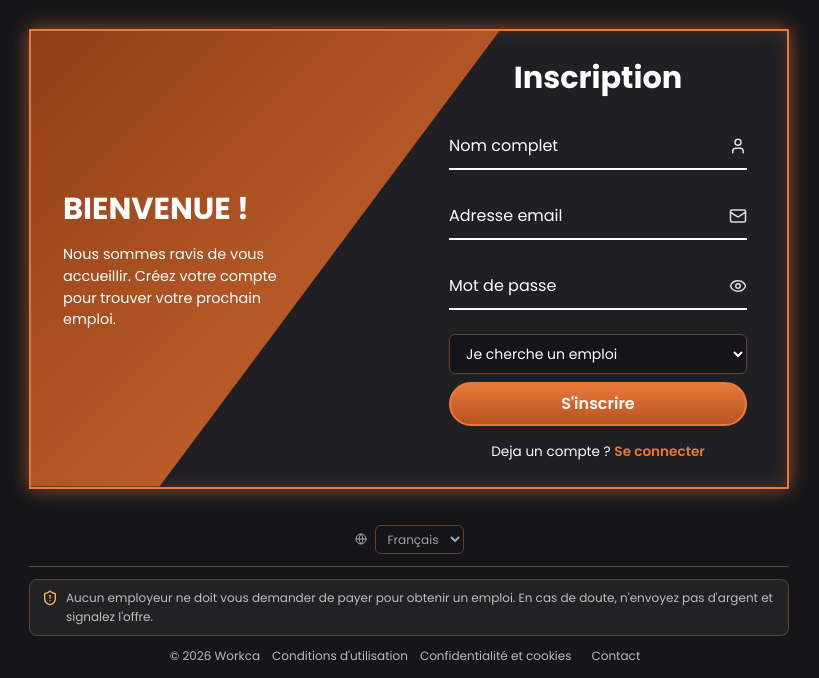
Scenario: AuthPage › n'invente pas de compte local quand l'inscription Supabase est indisponible
The image size is (819, 678).
Check: the heading "Inscription" is shown, box [514,56,682,98]
Type "Entreprise test" into the field named "username" next to "Nom complet" at (598, 146), box [449,124,747,168]
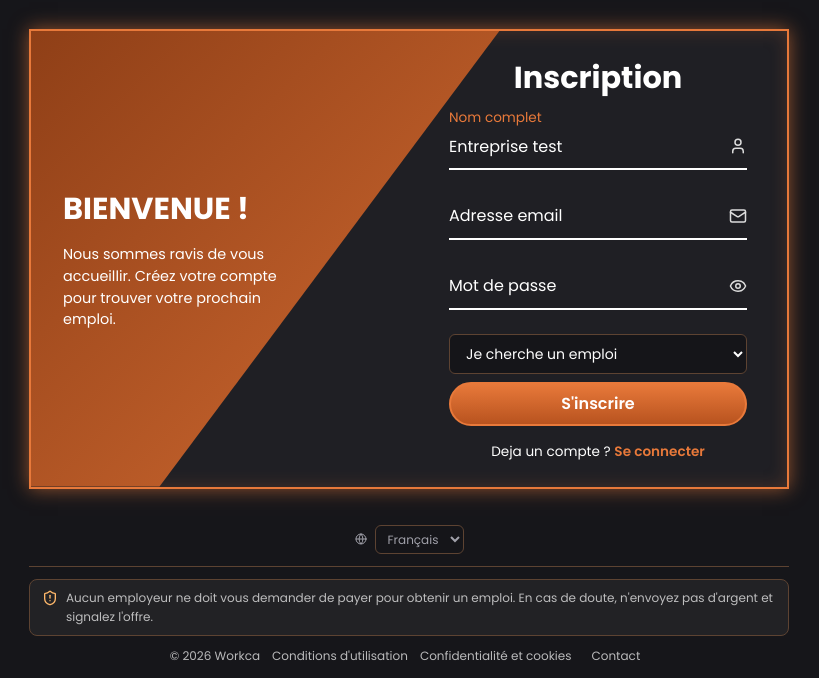
Type "entreprise@example.com" into the field named "email" next to "Adresse email" at (598, 216), box [449,194,747,238]
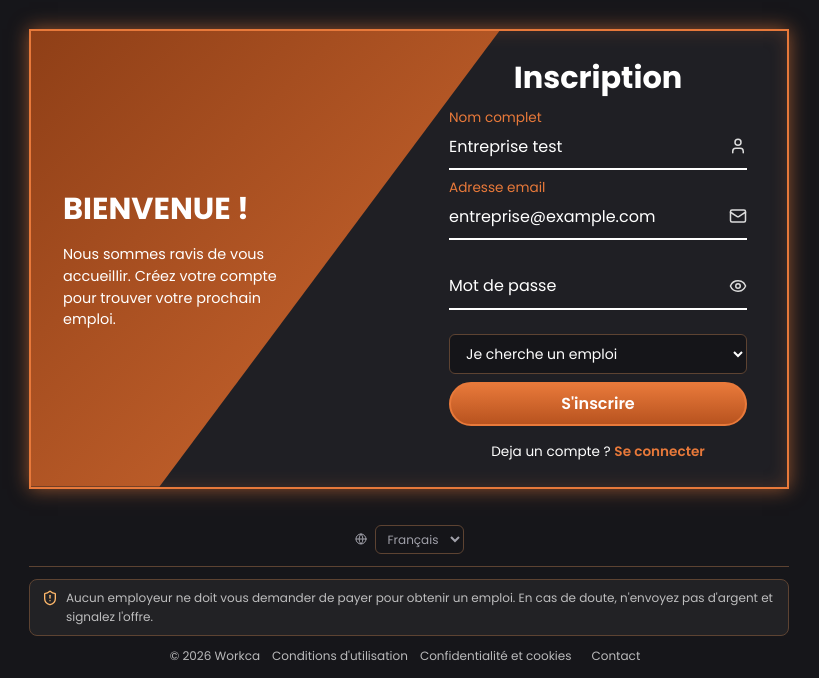
Type "mot-de-passe-test" into the password field named "password" at (598, 286), box [449,264,747,308]
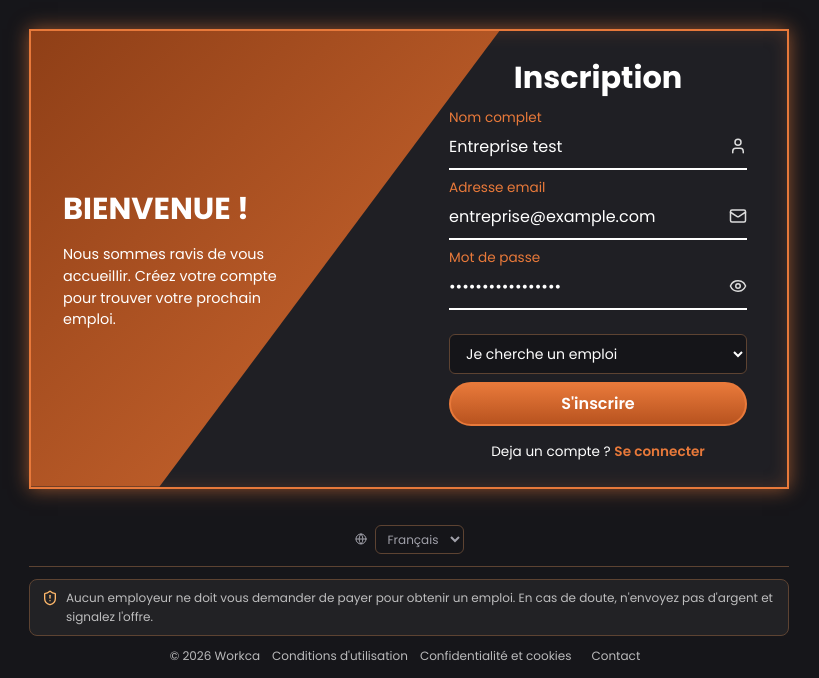
Select "Je souhaite publier des offres" in the dropdown named "role" below "Mot de passe" at (598, 354), box [449,334,747,374]
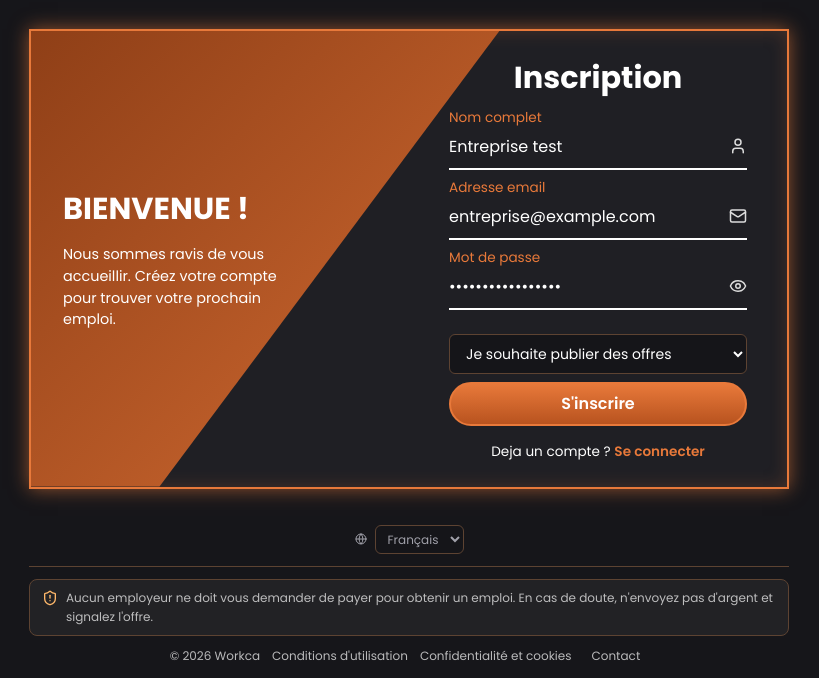
Submit the form, box [449,100,747,462]
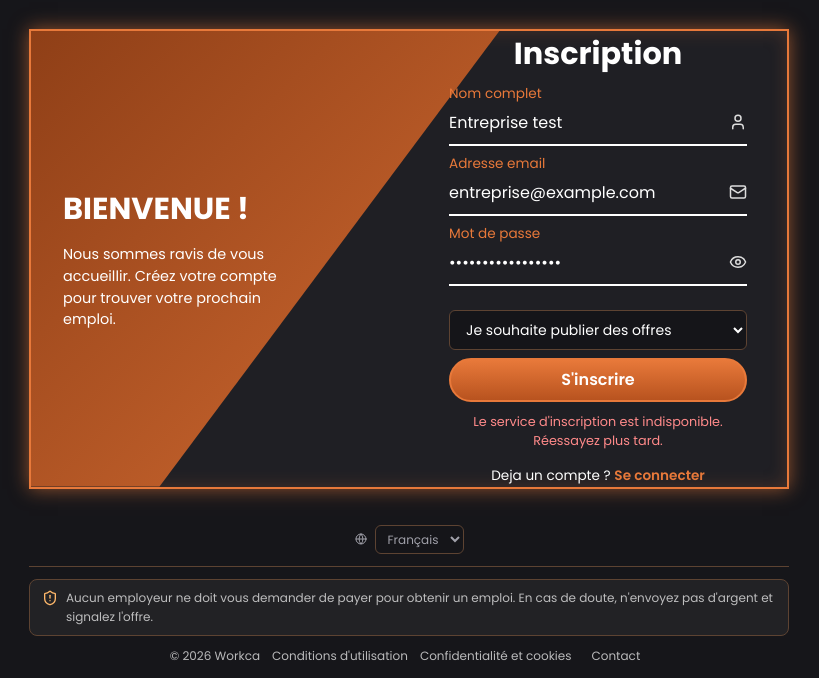
Check: the message shows "service d'inscription est indisponible", box [473,413,723,449]
